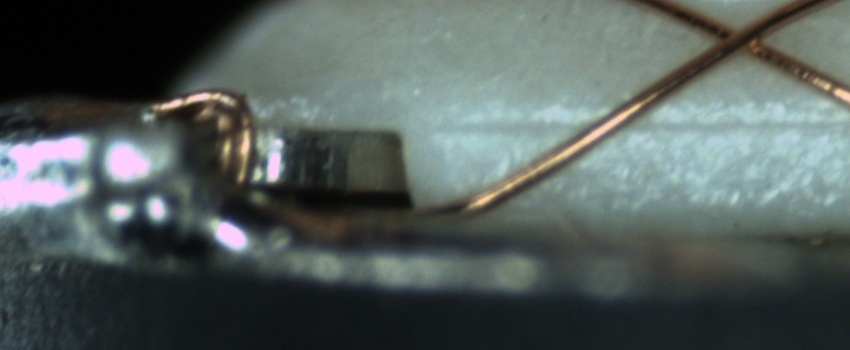CL: (693, 3, 795, 68)
DL: (432, 100, 849, 155)
TE: (141, 76, 259, 200)
